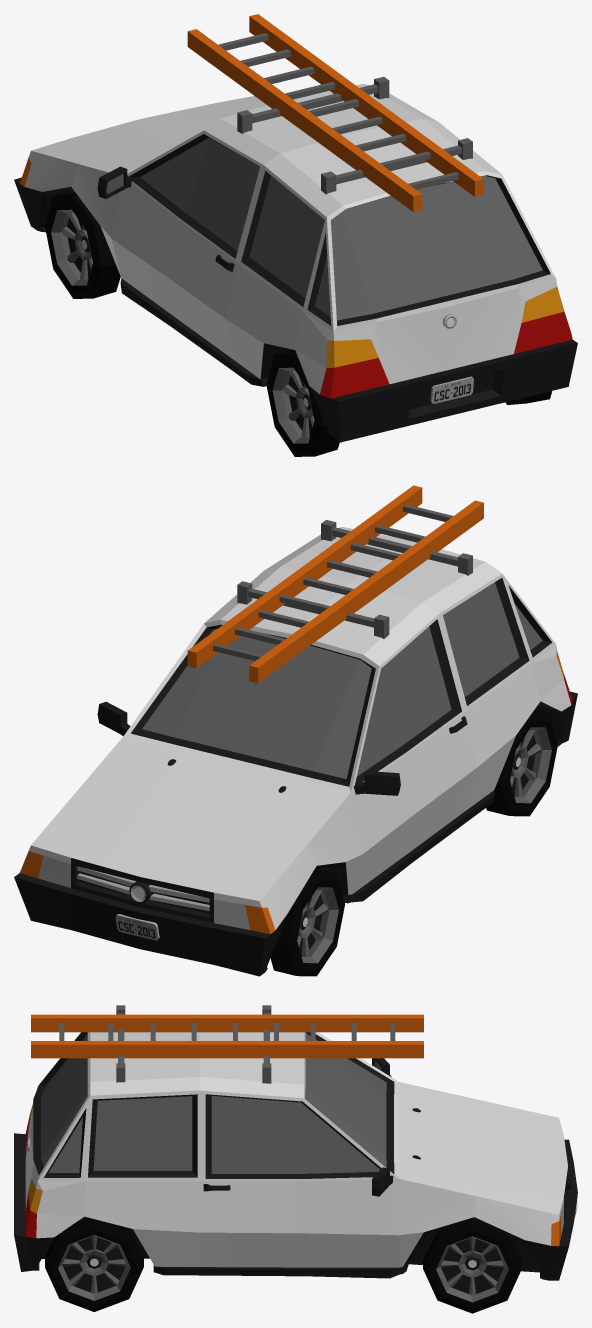
File: uno-firma.glb
3 renders of one model, top to bottom at view 1: azimuth 30°, elevation 25°; view 2: azimuth 150°, elevation 25°; view 3: azimuth 270°, elevation 25°, orthographic. The views are drawn at different scales.
Visible parts, largest first — view 1: object 1, WHEEL_WHEEL_bb, WHEEL_WHEEL_ba; view 2: object 1, WHEEL_WHEEL_bb, WHEEL_WHEEL_ba; view 3: object 1, WHEEL_WHEEL_aa, WHEEL_WHEEL_ab.
Boxes of the visible parts, box(x1,y1,x2,y2) form: object 1: box(14, 14, 577, 442); WHEEL_WHEEL_bb: box(45, 193, 120, 298); WHEEL_WHEEL_ba: box(266, 350, 339, 456); object 1: box(14, 485, 577, 976); WHEEL_WHEEL_bb: box(270, 870, 344, 976); WHEEL_WHEEL_ba: box(486, 710, 557, 816); object 1: box(14, 1005, 577, 1280); WHEEL_WHEEL_aa: box(45, 1217, 143, 1311); WHEEL_WHEEL_ab: box(423, 1220, 521, 1313).
Bounding box in the file's own units: 2.98 × 2.52 × 5.54.
Materials: 1 (1 with a texture image).
